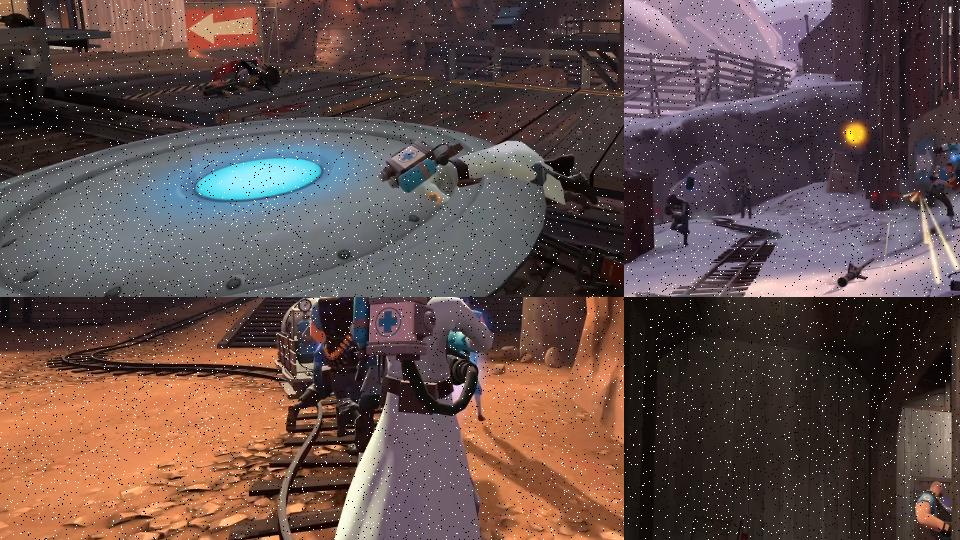Enemy: (332, 297, 503, 540), (377, 138, 600, 206), (305, 297, 385, 445), (199, 56, 281, 99), (912, 162, 960, 229), (914, 480, 953, 540), (933, 133, 960, 198), (664, 194, 691, 246), (738, 179, 754, 220)
